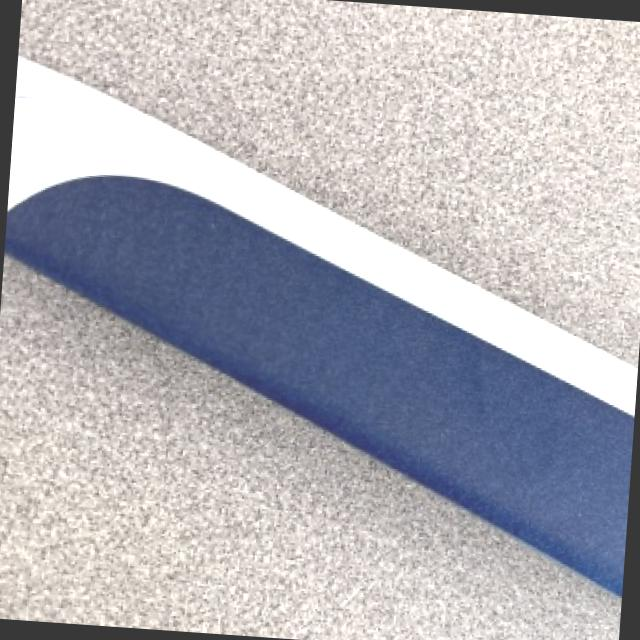healthy: (4, 55, 635, 591), (0, 253, 619, 640)
